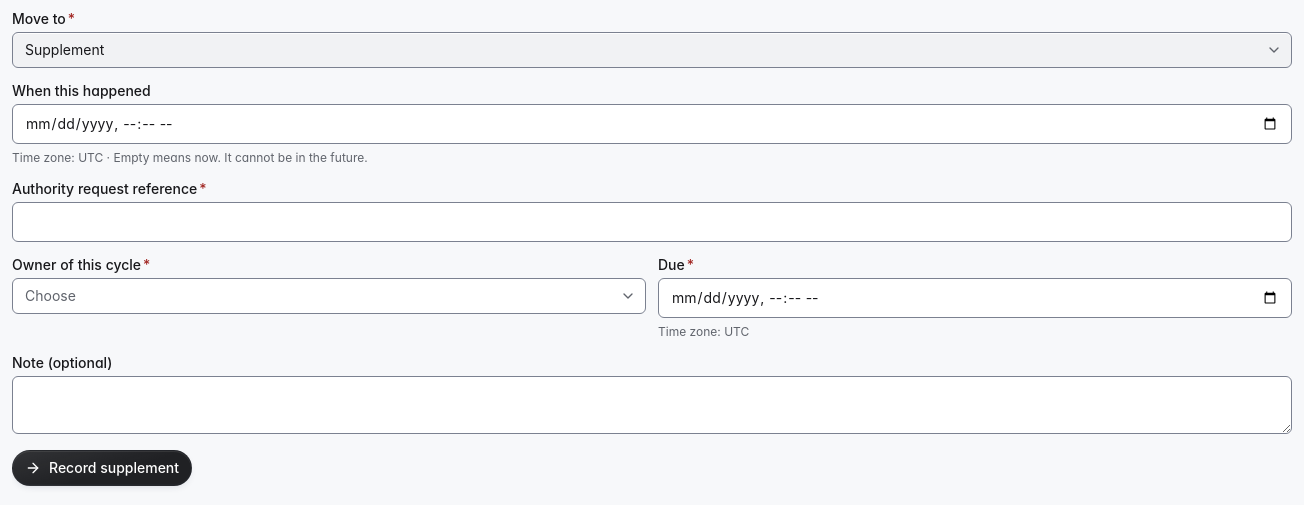
Scenario: AdvanceForm › offers supplement details only for a supplement
Expected: the field labelled "Authority request reference*" is shown, [12, 202, 1292, 242]
Select "Approval" in the dropdown labelled "Move to*" at point(652, 50), box [12, 32, 1292, 68]
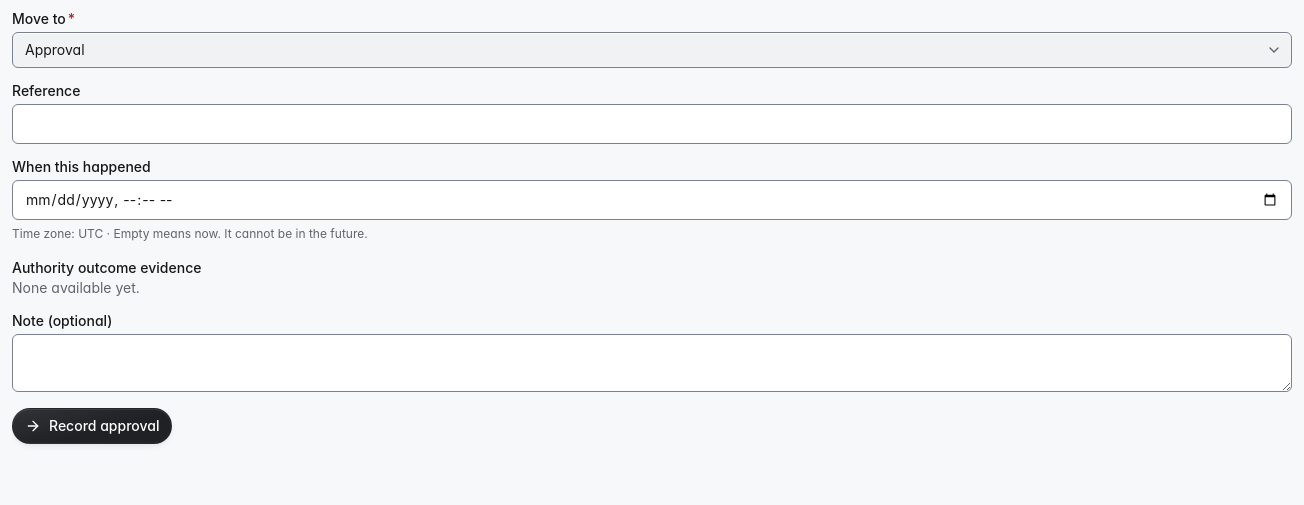
Result: the label labelled "Authority request reference" is gone
Result: the text "Authority outcome evidence" is shown at [12, 258, 202, 278]
